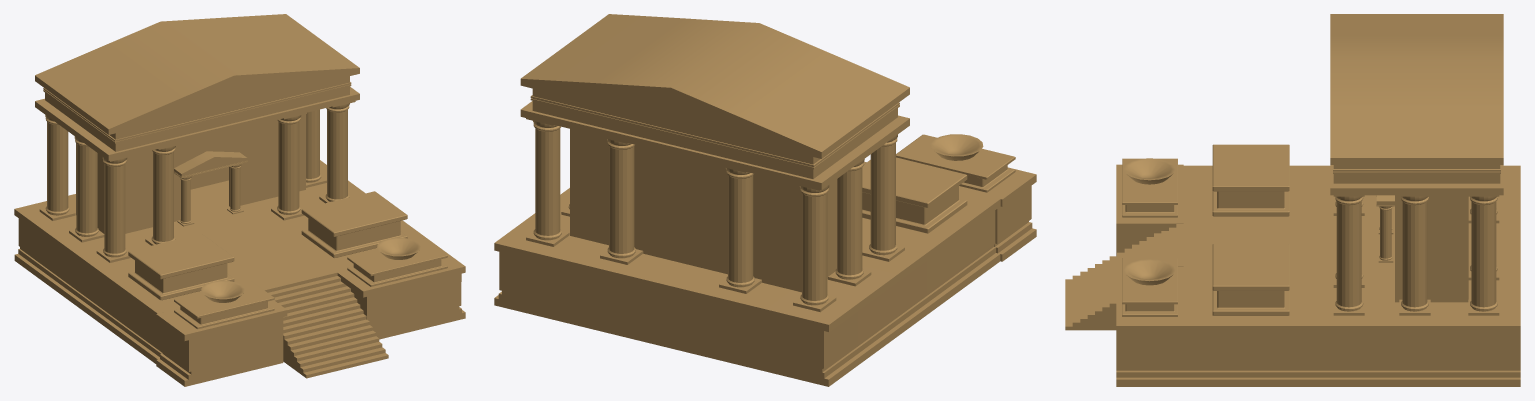
The model's file is Greek_Temple_Colored.fbx.
The picture shows the model from 3 angles, left to right: view 1: azimuth 30°, elevation 25°; view 2: azimuth 150°, elevation 25°; view 3: azimuth 270°, elevation 25°; orthographic projection. The views are drawn at different scales.
Visible parts, largest first — view 1: Triangle_Roof3, Temple_Base_Block_Original5, Temple_Room1, Stairs3, Temple_Base_Block_Front3, Temple_Base_Block_Front4, Pedestal11, Pedestal9, Pedestal10, Pedestal6, Greek_Pillar1_Greek_Pillar_Base41, Greek_Pillar1_Greek_Pillar_Base35 (+10 smaller); view 2: Triangle_Roof3, Temple_Base_Block_Original5, Temple_Room1, Pedestal9, Greek_Pillar1_Greek_Pillar_Base39, Greek_Pillar1_Greek_Pillar_Base26, Greek_Pillar1_Greek_Pillar_Base36, Greek_Pillar1_Greek_Pillar_Base38, Greek_Pillar1_Greek_Pillar_Base40, Greek_Pillar1_Greek_Pillar_Base41, Temple_Base_Block_Front3, Pedestal6 (+1 smaller); view 3: Temple_Base_Block_Original5, Triangle_Roof3, Pedestal9, Pedestal11, Temple_Base_Block_Front4, Temple_Room1, Stairs3, Greek_Pillar1_Greek_Pillar_Base33, Greek_Pillar1_Greek_Pillar_Base34, Greek_Pillar1_Greek_Pillar_Base26, Pedestal6, Pedestal10 (+4 smaller).
Boxes of the visible parts, x1,y1,x2,y2 form: Triangle_Roof3: (35,14,359,160); Temple_Base_Block_Original5: (14,160,436,363); Temple_Room1: (76,114,305,233); Stairs3: (261,270,388,378); Temple_Base_Block_Front3: (156,300,287,386); Temple_Base_Block_Front4: (335,245,465,339); Pedestal11: (301,191,407,258); Pedestal9: (128,233,234,300); Pedestal10: (347,238,447,286); Pedestal6: (174,280,274,329); Greek_Pillar1_Greek_Pillar_Base41: (96,155,132,262); Greek_Pillar1_Greek_Pillar_Base35: (271,112,306,220); Triangle_Roof3: (520,14,909,189); Temple_Base_Block_Original5: (494,188,1000,386); Temple_Room1: (570,129,836,292); Pedestal9: (862,157,967,233); Greek_Pillar1_Greek_Pillar_Base39: (793,183,836,312); Greek_Pillar1_Greek_Pillar_Base26: (526,118,569,246); Greek_Pillar1_Greek_Pillar_Base36: (600,136,643,264); Greek_Pillar1_Greek_Pillar_Base38: (719,165,761,293); Greek_Pillar1_Greek_Pillar_Base40: (828,159,871,286); Greek_Pillar1_Greek_Pillar_Base41: (862,134,904,261); Temple_Base_Block_Front3: (959,167,1036,261); Pedestal6: (896,134,1015,192); Temple_Base_Block_Original5: (1183,165,1520,386); Triangle_Roof3: (1330,14,1503,195); Pedestal9: (1212,144,1289,216); Pedestal11: (1212,244,1289,315); Temple_Base_Block_Front4: (1116,267,1183,386); Temple_Room1: (1395,195,1468,302); Stairs3: (1065,224,1183,330); Greek_Pillar1_Greek_Pillar_Base33: (1399,195,1430,315); Greek_Pillar1_Greek_Pillar_Base34: (1333,195,1364,315); Greek_Pillar1_Greek_Pillar_Base26: (1468,195,1499,315); Pedestal6: (1122,158,1177,217); Pedestal10: (1122,258,1177,316).
Bounding box in the file's own units: 1132 × 811 × 1352.
